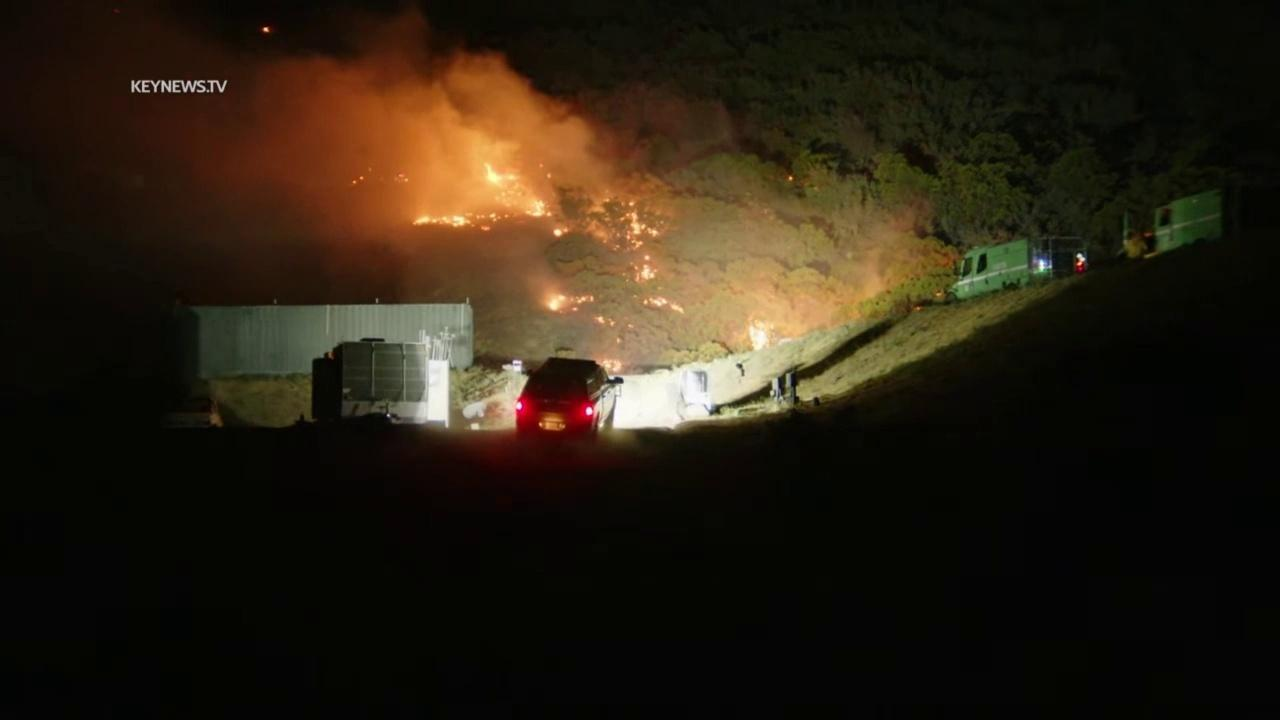fire: (486, 161, 553, 222), (620, 201, 663, 250), (410, 213, 473, 229), (546, 291, 595, 311), (642, 295, 686, 316), (745, 319, 774, 350), (633, 264, 659, 283), (601, 356, 624, 374), (552, 226, 569, 238), (592, 314, 606, 326), (608, 317, 617, 327), (615, 336, 624, 345), (262, 25, 270, 33), (787, 174, 794, 182), (643, 255, 652, 261), (351, 180, 356, 185), (358, 176, 364, 180)
smoke: (39, 0, 937, 374)
